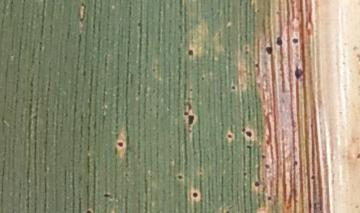tarspot: (292, 62, 307, 84), (263, 42, 276, 58), (273, 34, 286, 48), (100, 191, 116, 202), (287, 34, 300, 47), (187, 113, 196, 130), (189, 189, 201, 200), (243, 141, 255, 152), (115, 138, 125, 151), (186, 47, 196, 58), (134, 19, 143, 31), (174, 171, 184, 181), (224, 132, 235, 141), (244, 130, 255, 139), (251, 179, 262, 188), (81, 206, 94, 213), (180, 109, 190, 118), (251, 62, 261, 71), (264, 193, 275, 201), (258, 152, 269, 159), (291, 159, 300, 167), (262, 162, 271, 170), (239, 169, 248, 177), (229, 84, 239, 91), (307, 173, 317, 180), (221, 208, 235, 213)
